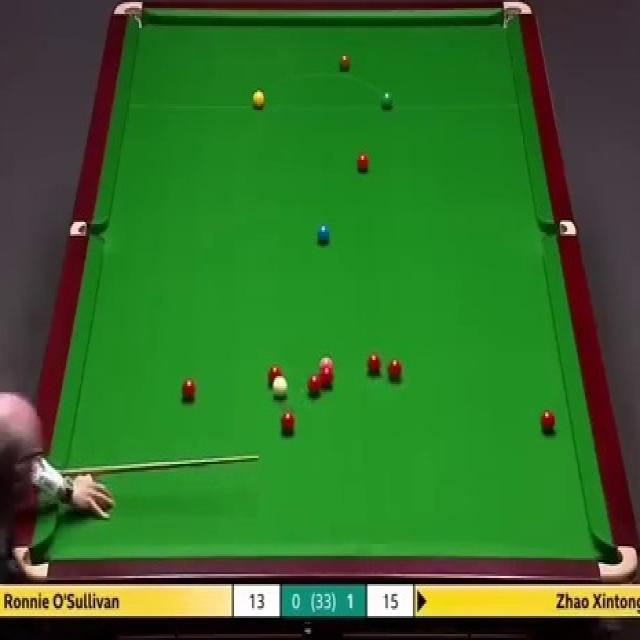blue-ball: (317, 224, 330, 243)
brown-ball: (338, 53, 350, 71)
green-ball: (380, 89, 393, 110)
pink-ball: (318, 358, 332, 373)
red-ball: (387, 356, 403, 386), (279, 410, 295, 434), (540, 409, 555, 432), (266, 365, 283, 385), (367, 352, 381, 376), (182, 378, 196, 402), (307, 376, 322, 396), (356, 153, 369, 174), (319, 371, 334, 387)
white-ball: (273, 378, 288, 398)
yellow-ball: (252, 90, 264, 108)
